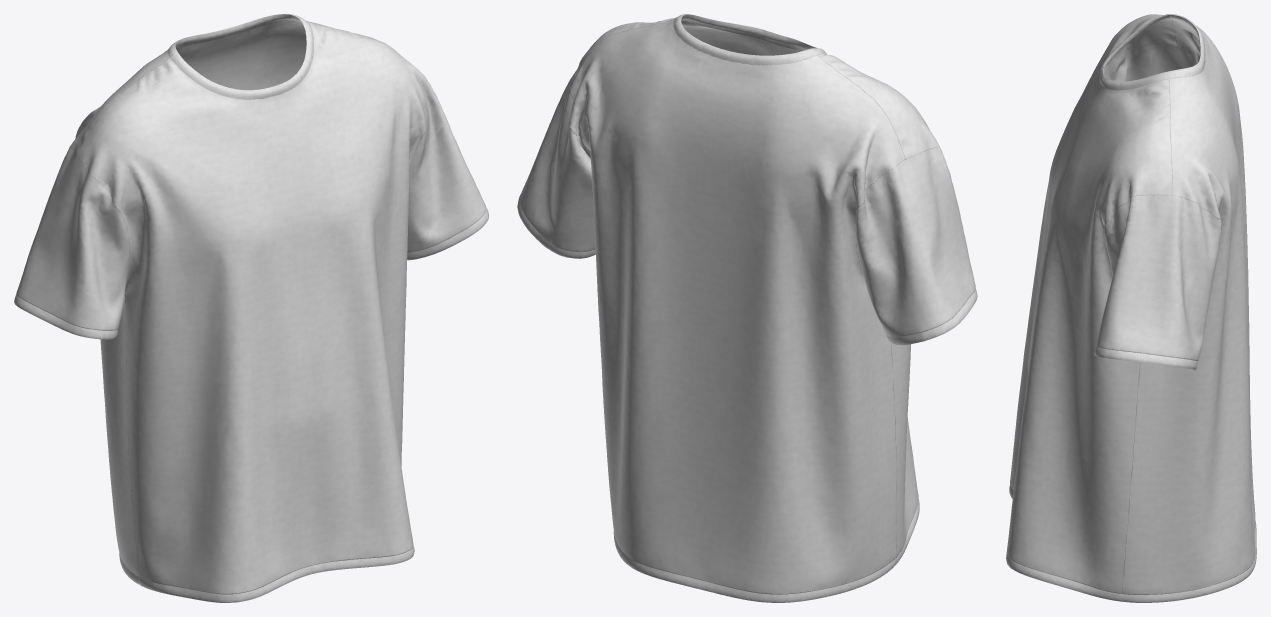
Rendered from oversized_optimized.glb.
The picture shows the model from 3 angles, left to right: view 1: azimuth 30°, elevation 25°; view 2: azimuth 150°, elevation 25°; view 3: azimuth 270°, elevation 25°; orthographic projection. The views are drawn at different scales.
Parts seen in each view (by area): view 1: Object_2; view 2: Object_2; view 3: Object_2.
Part boxes in pixels (<box>): Object_2: <box>14,14,488,602</box>; Object_2: <box>517,14,977,602</box>; Object_2: <box>1006,14,1256,602</box>.
Bounding box in the file's own units: 0.637 × 0.7108 × 0.3212.
1 material, 1 textured.
